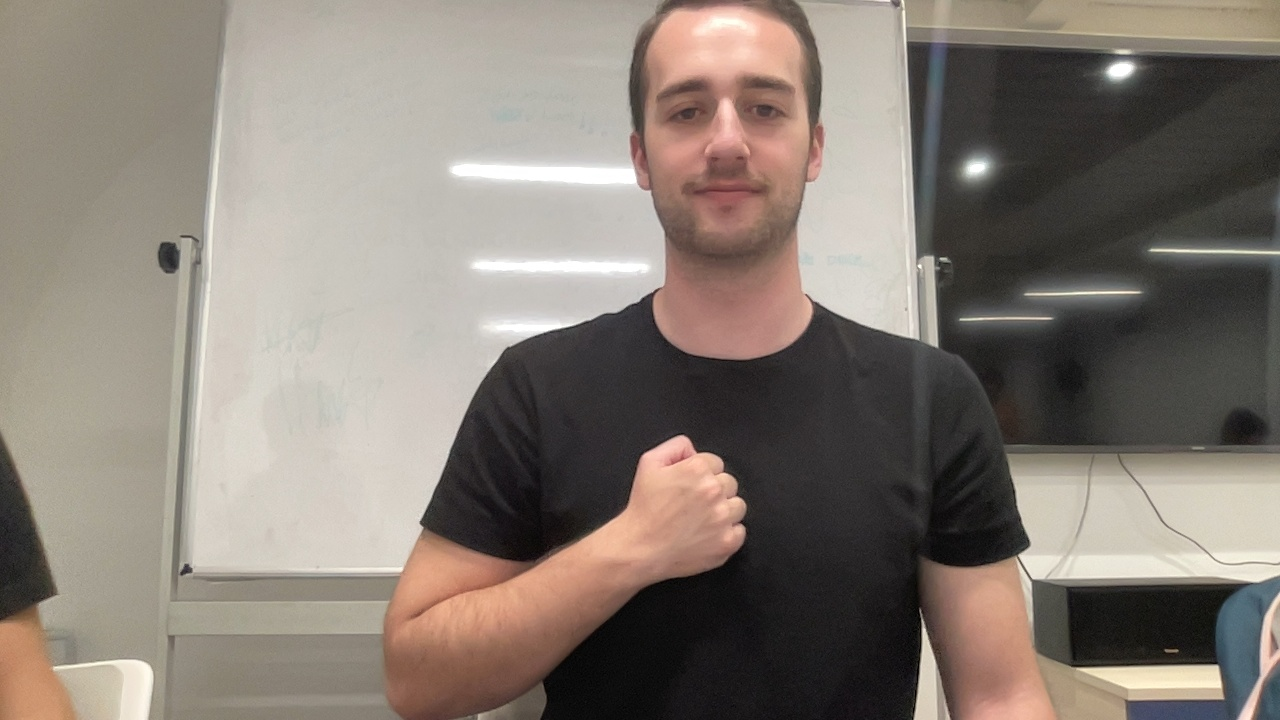Sorry: (380, 427, 752, 720)
